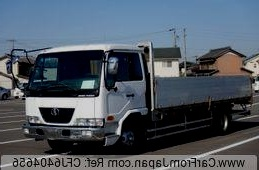truck: (24, 39, 253, 153)
